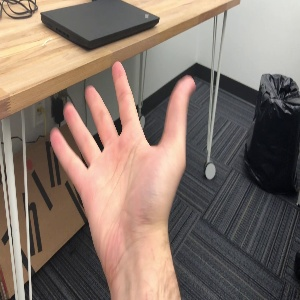hand: (50, 60, 196, 230)
